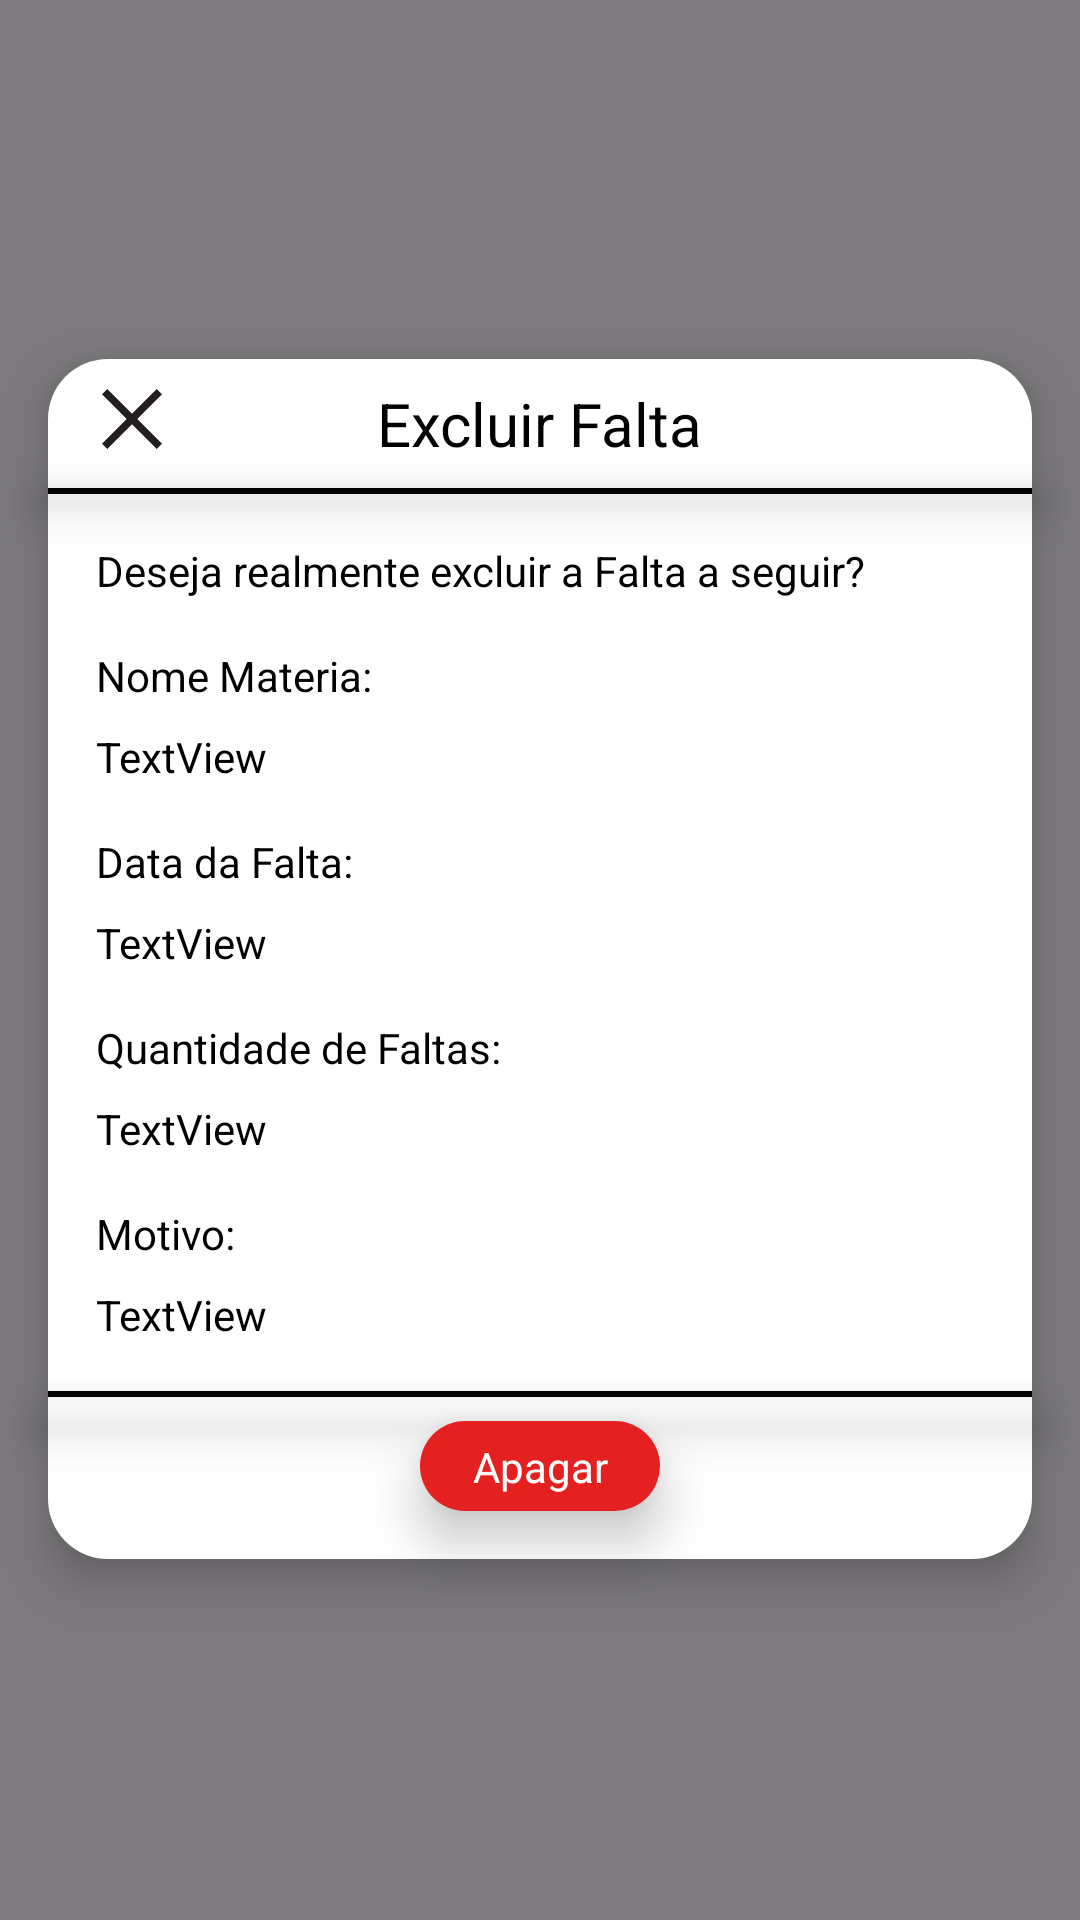

Where to tap for icons on this 1080 × 1920 app screen, as (x=x, y=y):
close: (x=132, y=419)
